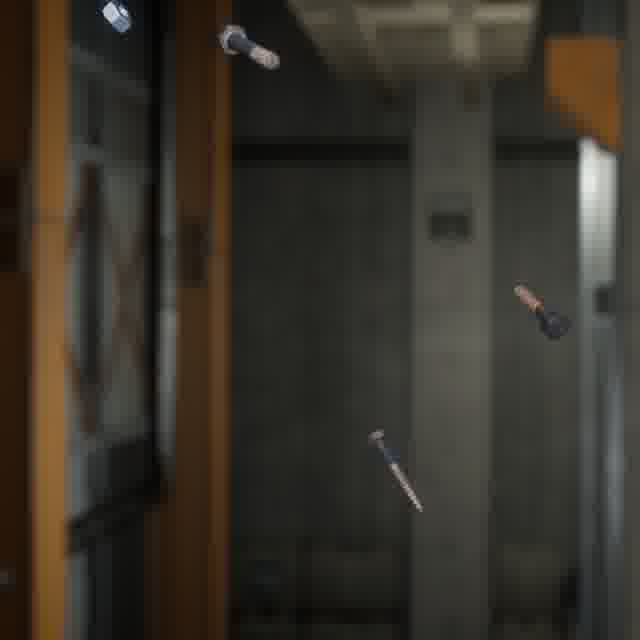bolt: (361, 425, 427, 517), (510, 280, 575, 344), (211, 20, 284, 74)
nut: (97, 0, 138, 38)
